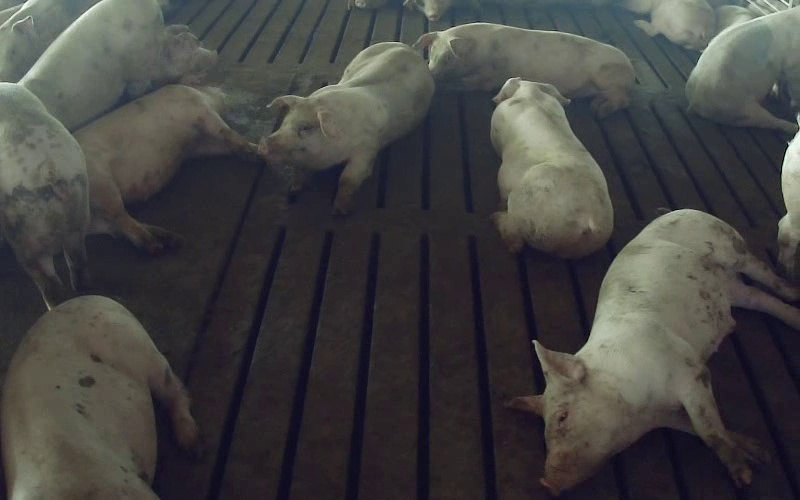pig: (509, 209, 799, 492), (2, 296, 197, 499), (258, 42, 434, 213), (491, 78, 612, 258), (414, 23, 634, 117), (686, 6, 799, 132)
